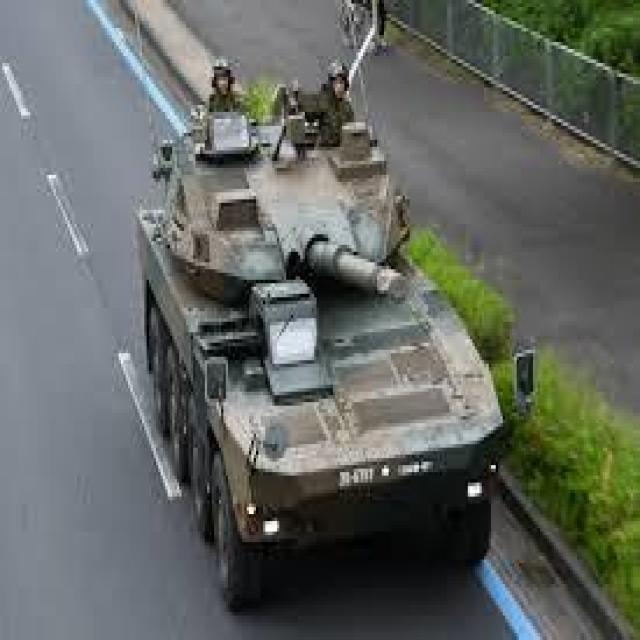Tanks: (142, 70, 507, 591)
